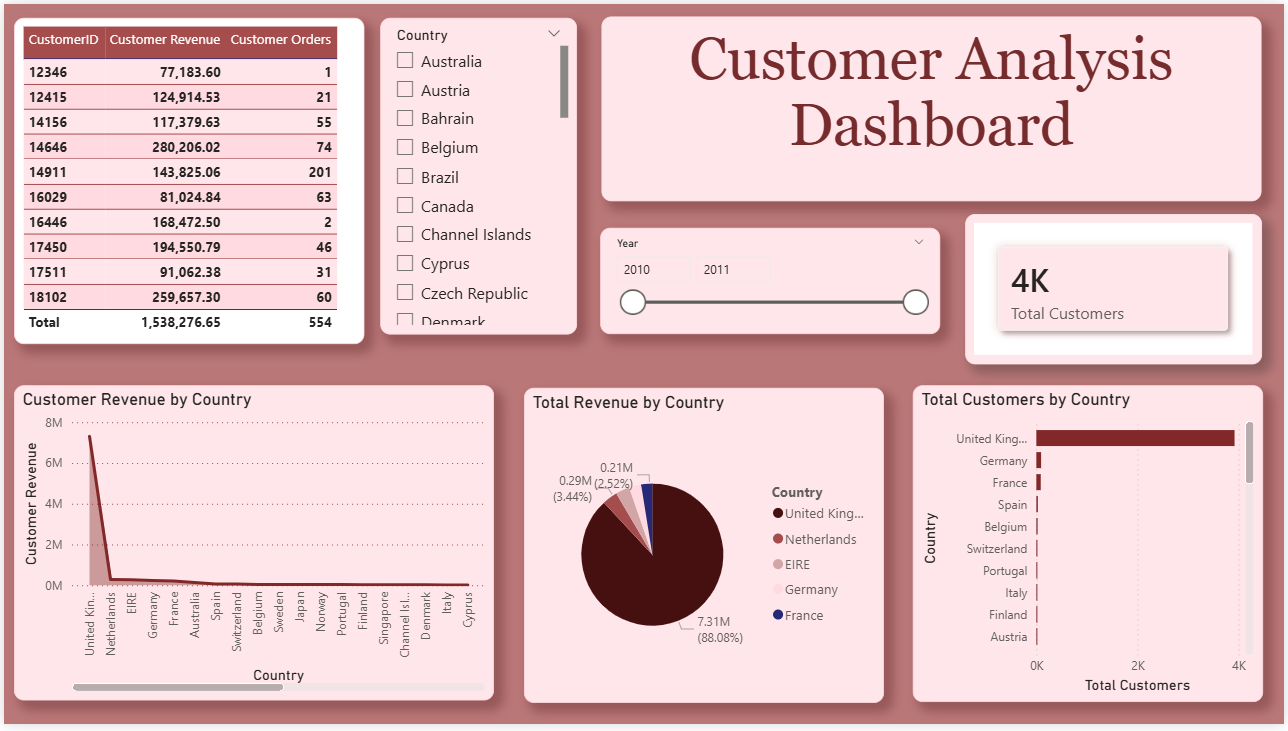

Layout of this report page (visuals, bound fields, positions):
{"tool":"powerbi","page":{"name":"Customer Analysis","canvas":[1280,720],"ordinal":1},"visuals":[{"type":"tableEx","fields":{"Values":["Online Retail.CustomerID","Measure.Customer Revenue","Measure.Customer Orders"]},"box":[10,13.3,350,326.7],"z":0},{"type":"stackedAreaChart","fields":{"Category":["Online Retail.Country"],"Y":["Measure.Customer Revenue"]},"box":[10,381.7,480,315],"z":1000},{"type":"barChart","fields":{"Category":["Online Retail.Country"],"Y":["Measure.Total Customers"]},"box":[908.3,381.7,350,316.7],"z":2000},{"type":"pieChart","fields":{"Category":["Online Retail.Country"],"Y":["Measure.Total Revenue"]},"box":[520,383.3,360,315],"z":3000},{"type":"slicer","fields":{"Values":["Online Retail.Country"]},"box":[376.7,13.3,196.7,316.7],"z":4000},{"type":"slicer","fields":{"Values":["Online Retail.Year"]},"box":[596.7,223.3,340,106.7],"z":5000},{"type":"textbox","box":[597.5,12.5,660,185],"z":6000},{"type":"cardVisual","fields":{"Data":["Measure.Total Customers"]},"box":[961.7,210,296.7,150],"z":7000}]}

Visuals, with their boxes in screenshot pixels (x1, y1, x2, y2), scaled from the page's 1280x720 canvas onto the 1288x731 screenshot:
tableEx - Online Retail.CustomerID x Measure.Customer Revenue: bbox=(10, 14, 362, 345)
stackedAreaChart - Online Retail.Country x Measure.Customer Revenue: bbox=(10, 388, 493, 707)
barChart - Online Retail.Country x Measure.Total Customers: bbox=(914, 388, 1266, 709)
pieChart - Online Retail.Country x Measure.Total Revenue: bbox=(523, 389, 886, 709)
slicer - Online Retail.Country: bbox=(379, 14, 577, 335)
slicer - Online Retail.Year: bbox=(600, 227, 943, 335)
textbox: bbox=(601, 13, 1265, 201)
cardVisual - Measure.Total Customers: bbox=(968, 213, 1266, 366)
